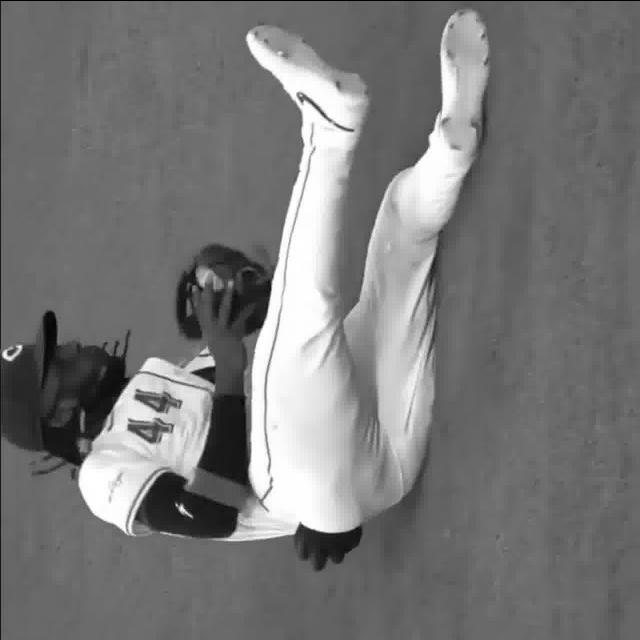baseball: (198, 263, 223, 286)
baseball_glove: (171, 246, 283, 341)
shoe: (243, 23, 377, 117), (434, 6, 493, 156)
